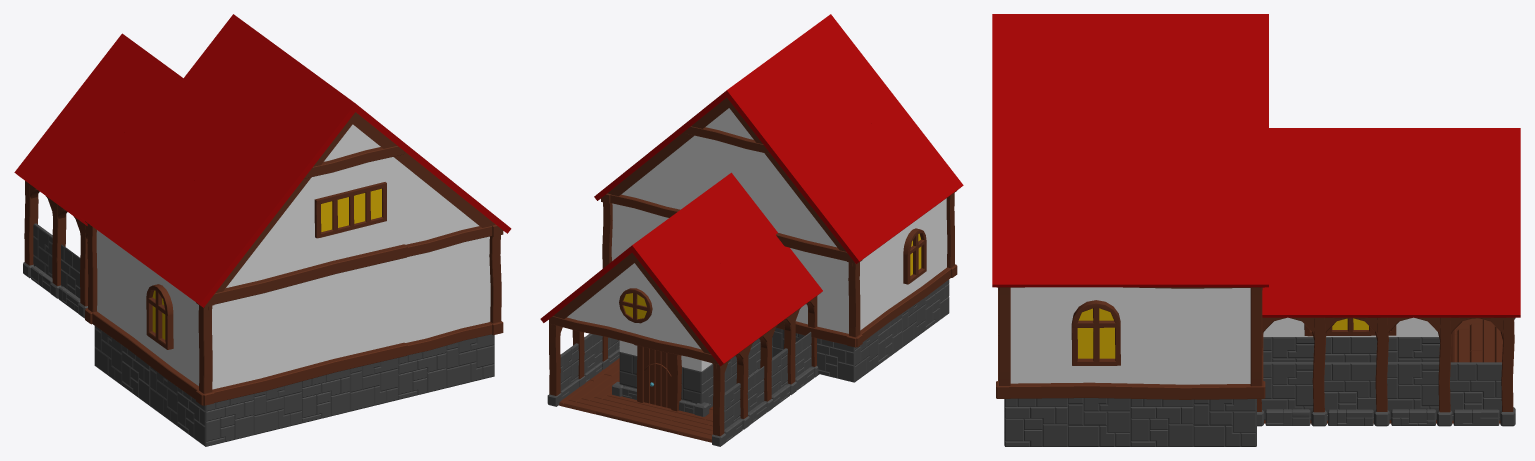
The model's file is Full_House_5.fbx.
The picture shows the model from 3 angles, left to right: view 1: azimuth 30°, elevation 25°; view 2: azimuth 150°, elevation 25°; view 3: azimuth 270°, elevation 25°; orthographic projection. The views are drawn at different scales.
Parts seen in each view (by area): view 1: Stone_Wall_LOD0, Wall_Large7, Wall_small15, Wall_Large, Roof_Edge7, Roof_Edge_no_14, Roof_Edge_no_13, Roof_Edge_7, Roof_Edge_1, Roof_Middle24, Roof_Middle29, Roof_Middle30 (+31 smaller); view 2: Stone_Wall_LOD0, Wall_Large (×2), Wood_Floor_LOD0, Roof_Edge_1, Roof_Edge_7, Roof_Edge_no, Roof_Edge_no10, Roof_Edge_no11, Roof_Edge7, Roof_Middle23, Roof_Middle29, Roof_Middle24 (+47 smaller); view 3: Stone_Wall_LOD0, Wall_Large, Roof_Edge_8, Roof_Edge, Roof_Edge6, Roof_Middle22, Roof_Middle27, Roof_Middle, Roof_Middle28, Roof_Edge_no_1, Roof_Edge_no_12, Roof_Edge_no12 (+27 smaller).
Boxes of the visible parts, x1,y1,x2,y2 form: Stone_Wall_LOD0: (33,223,494,446); Wall_Large7: (212,259,398,389); Wall_small15: (398,236,490,343); Wall_Large: (96,230,199,385); Roof_Edge7: (166,203,259,310); Roof_Edge_no_14: (226,141,307,247); Roof_Edge_no_13: (274,79,355,185); Roof_Edge_7: (14,95,106,198); Roof_Edge_1: (77,138,170,240); Roof_Middle24: (48,120,134,218); Roof_Middle29: (139,183,225,280); Roof_Middle30: (111,163,197,260); Stone_Wall_LOD0: (560,279,949,429); Wall_Large (×2): (790,198,947,333); Wood_Floor_LOD0: (559,358,712,442); Roof_Edge_1: (808,175,887,265); Roof_Edge_7: (673,277,751,368); Roof_Edge_no: (767,122,836,212); Roof_Edge_no10: (632,224,701,314); Roof_Edge_no11: (726,69,795,159); Roof_Edge7: (884,120,963,206); Roof_Middle23: (725,243,799,326); Roof_Middle29: (861,140,934,224); Roof_Middle24: (701,260,775,343); Stone_Wall_LOD0: (1004,337,1501,446); Wall_Large: (1010,287,1250,384); Roof_Edge_8: (992,181,1067,289); Roof_Edge: (1445,211,1520,320); Roof_Edge6: (1193,181,1268,289); Roof_Middle22: (1319,211,1382,317); Roof_Middle27: (1130,181,1193,287); Roof_Middle: (1382,211,1444,317); Roof_Middle28: (1068,181,1130,287); Roof_Edge_no_1: (1445,128,1520,211); Roof_Edge_no_12: (1193,14,1268,97); Roof_Edge_no12: (992,97,1067,180).
Size of what is drawn, in the model's own units: 0.0648 by 0.0626 by 0.084.
